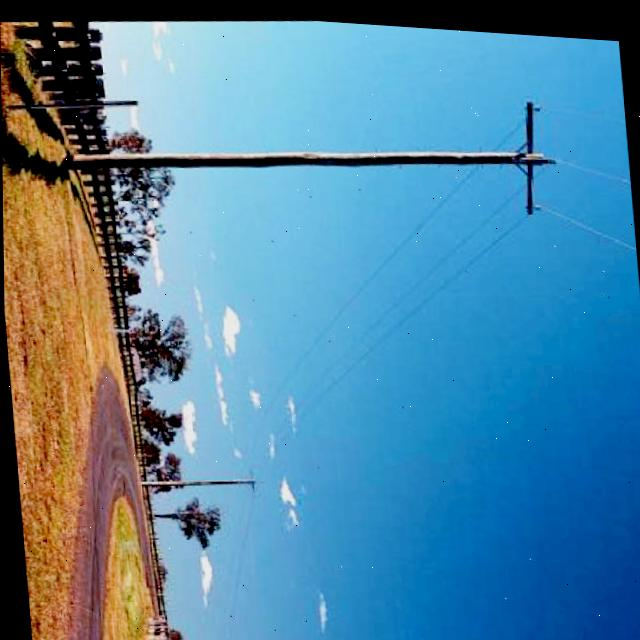poles: (59, 59, 563, 247), (139, 453, 263, 503)
wires: (242, 159, 533, 471), (546, 195, 632, 259), (538, 92, 619, 125), (557, 146, 626, 182)
